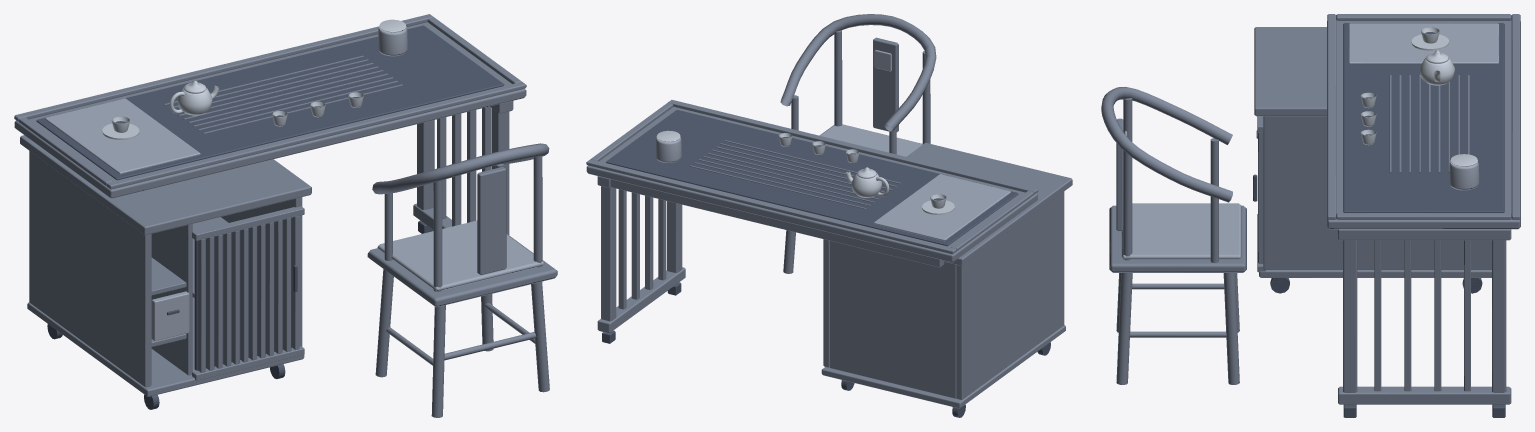
Rendered from 组合茶桌-lite.glb.
3 views of the same model, side by side, from view 1: azimuth 30°, elevation 25°; view 2: azimuth 150°, elevation 25°; view 3: azimuth 270°, elevation 25° (orthographic). The views are drawn at different scales.
Visible parts, largest first — view 1: tea-table-set; view 2: tea-table-set; view 3: tea-table-set.
Part boxes in pixels (x1,y1,x2,y2): tea-table-set: [14, 14, 557, 417]; tea-table-set: [586, 14, 1072, 417]; tea-table-set: [1101, 14, 1520, 417].
Size of the model in its own units: 1.61 by 0.94 by 1.4.
